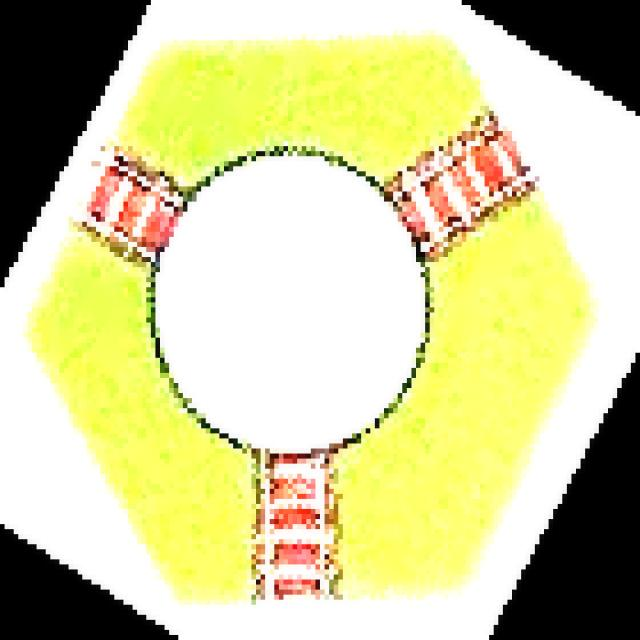11_1: (34, 43, 597, 598)
